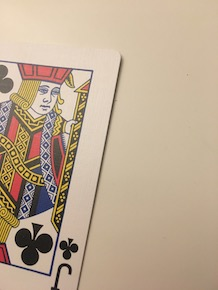JackOfClubs: (1, 38, 130, 288)
